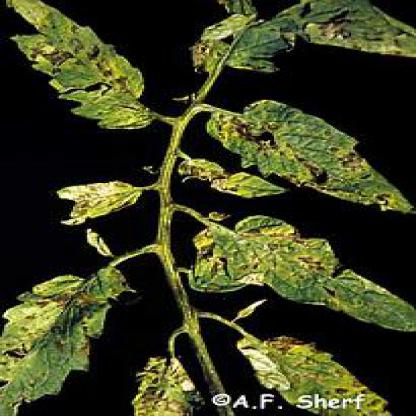Tomato Septoria leaf spot: (181, 214, 414, 340), (217, 103, 408, 216), (2, 255, 132, 415), (201, 1, 414, 87), (14, 1, 152, 123), (239, 331, 404, 415), (51, 177, 150, 225), (187, 158, 274, 207)
